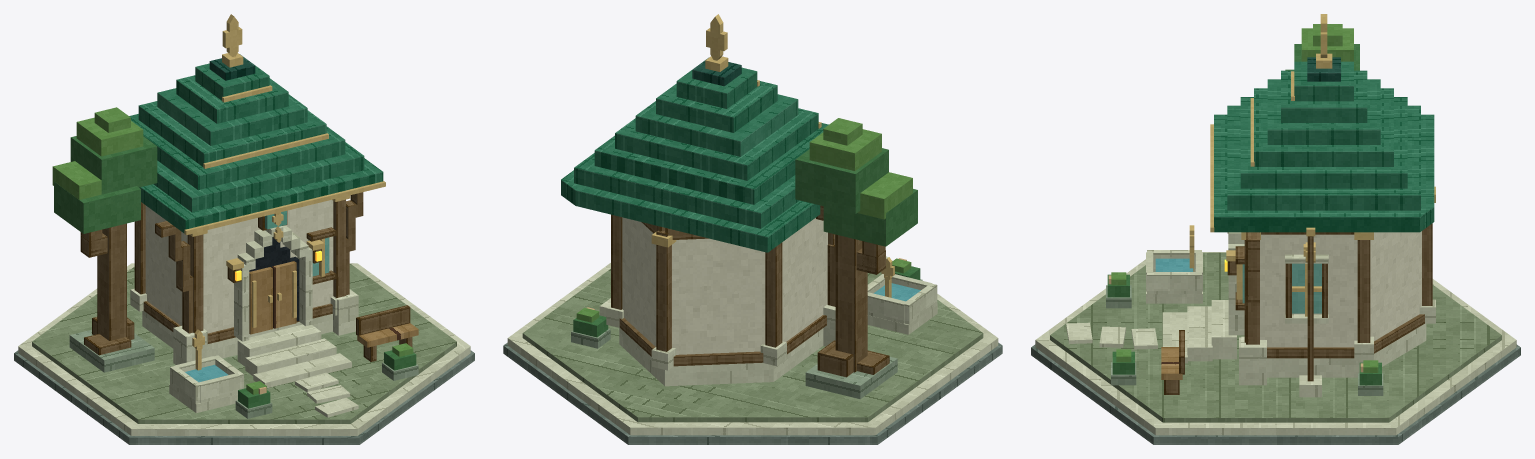
File: elf_city_level_1_hex_v1.glb
3 views of the same model, side by side, from view 1: azimuth 30°, elevation 25°; view 2: azimuth 150°, elevation 25°; view 3: azimuth 270°, elevation 25° (orthographic). The views are drawn at different scales.
Visible parts, largest first — view 1: Elf_City_Level_1_Hex_V1_Foundation, Elf_City_Level_1_Hex_V1_Roofs, Elf_City_Level_1_Hex_V1_Tree, Elf_City_Level_1_Hex_V1_Architecture, Elf_City_Level_1_Hex_V1_Council, Elf_City_Level_1_Hex_V1_Courtyard, Elf_City_Level_1_Hex_V1_Details; view 2: Elf_City_Level_1_Hex_V1_Foundation, Elf_City_Level_1_Hex_V1_Roofs, Elf_City_Level_1_Hex_V1_Council, Elf_City_Level_1_Hex_V1_Tree, Elf_City_Level_1_Hex_V1_Architecture, Elf_City_Level_1_Hex_V1_Courtyard, Elf_City_Level_1_Hex_V1_Details; view 3: Elf_City_Level_1_Hex_V1_Foundation, Elf_City_Level_1_Hex_V1_Roofs, Elf_City_Level_1_Hex_V1_Council, Elf_City_Level_1_Hex_V1_Architecture, Elf_City_Level_1_Hex_V1_Courtyard, Elf_City_Level_1_Hex_V1_Details, Elf_City_Level_1_Hex_V1_Tree.
Boxes of the visible parts, bbox=[...] form: Elf_City_Level_1_Hex_V1_Foundation: bbox=[14, 263, 474, 444]; Elf_City_Level_1_Hex_V1_Roofs: bbox=[129, 54, 385, 235]; Elf_City_Level_1_Hex_V1_Tree: bbox=[52, 107, 157, 372]; Elf_City_Level_1_Hex_V1_Architecture: bbox=[130, 192, 363, 364]; Elf_City_Level_1_Hex_V1_Council: bbox=[142, 200, 333, 358]; Elf_City_Level_1_Hex_V1_Courtyard: bbox=[169, 324, 418, 418]; Elf_City_Level_1_Hex_V1_Details: bbox=[192, 14, 418, 408]; Elf_City_Level_1_Hex_V1_Foundation: bbox=[503, 256, 1002, 444]; Elf_City_Level_1_Hex_V1_Roofs: bbox=[561, 57, 828, 252]; Elf_City_Level_1_Hex_V1_Council: bbox=[619, 217, 827, 386]; Elf_City_Level_1_Hex_V1_Tree: bbox=[795, 118, 917, 399]; Elf_City_Level_1_Hex_V1_Architecture: bbox=[606, 214, 835, 370]; Elf_City_Level_1_Hex_V1_Courtyard: bbox=[571, 274, 937, 348]; Elf_City_Level_1_Hex_V1_Details: bbox=[573, 14, 920, 337]; Elf_City_Level_1_Hex_V1_Foundation: bbox=[1031, 252, 1520, 444]; Elf_City_Level_1_Hex_V1_Roofs: bbox=[1210, 57, 1434, 232]; Elf_City_Level_1_Hex_V1_Council: bbox=[1260, 231, 1426, 377]; Elf_City_Level_1_Hex_V1_Architecture: bbox=[1228, 186, 1435, 385]; Elf_City_Level_1_Hex_V1_Courtyard: bbox=[1066, 250, 1383, 395]; Elf_City_Level_1_Hex_V1_Details: bbox=[1107, 14, 1381, 397]; Elf_City_Level_1_Hex_V1_Tree: bbox=[1285, 24, 1359, 70].
Size of the model in its own units: 1.45 by 1.31 by 1.68.
1 material, 1 textured.
